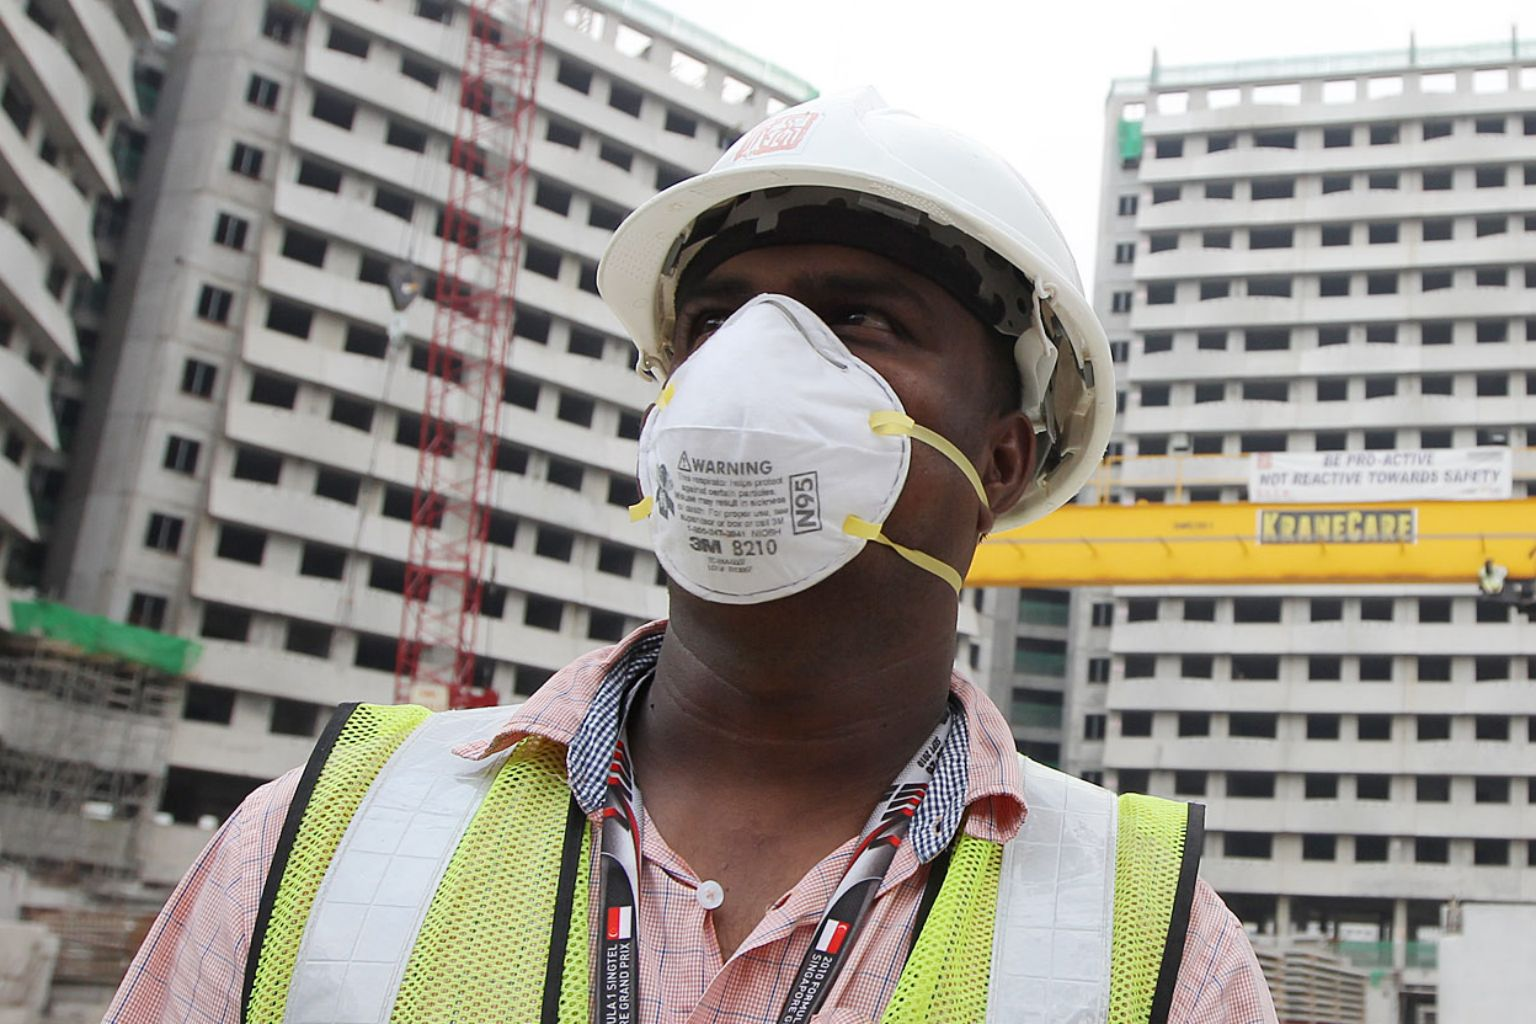n95: (605, 296, 921, 611)
